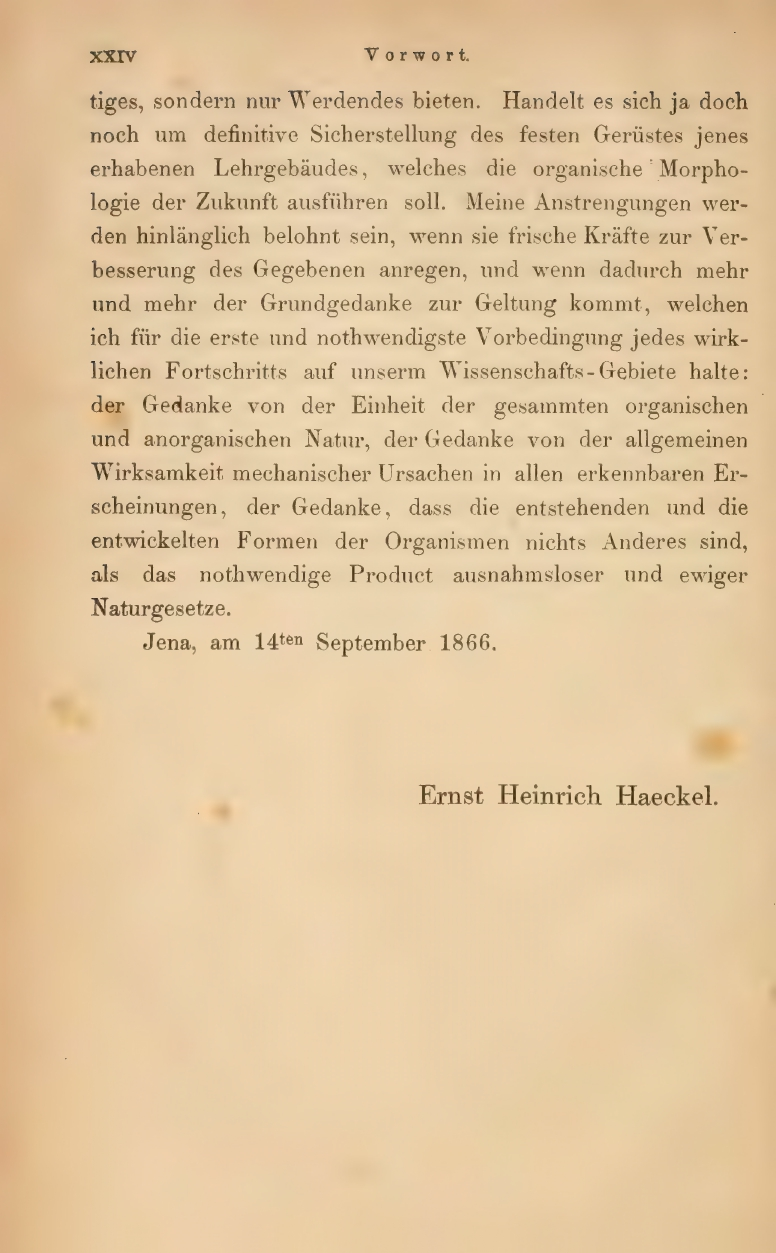MainZone: (53, 80, 770, 847)
NumberingZone_page: (72, 35, 150, 74)
RunningTitleZone: (345, 28, 480, 74)
